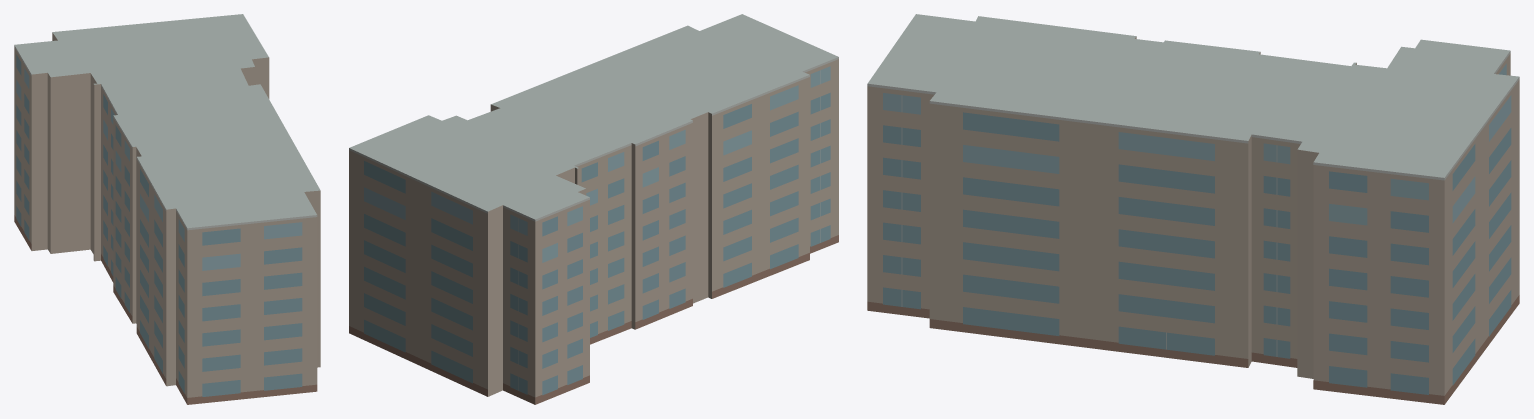
The model's file is survey-upis-32955175.glb.
The picture shows the model from 3 angles, left to right: view 1: azimuth 30°, elevation 25°; view 2: azimuth 150°, elevation 25°; view 3: azimuth 270°, elevation 25°; orthographic projection. The views are drawn at different scales.
Parts seen in each view (by area): view 1: survey-upis-32955175.tmp; view 2: survey-upis-32955175.tmp; view 3: survey-upis-32955175.tmp.
Boxes of the visible parts, x1,y1,x2,y2 form: survey-upis-32955175.tmp: [14, 14, 320, 404]; survey-upis-32955175.tmp: [349, 14, 838, 404]; survey-upis-32955175.tmp: [867, 14, 1519, 404].
Size of the model in its own units: 33.07 by 21.35 by 55.58.
